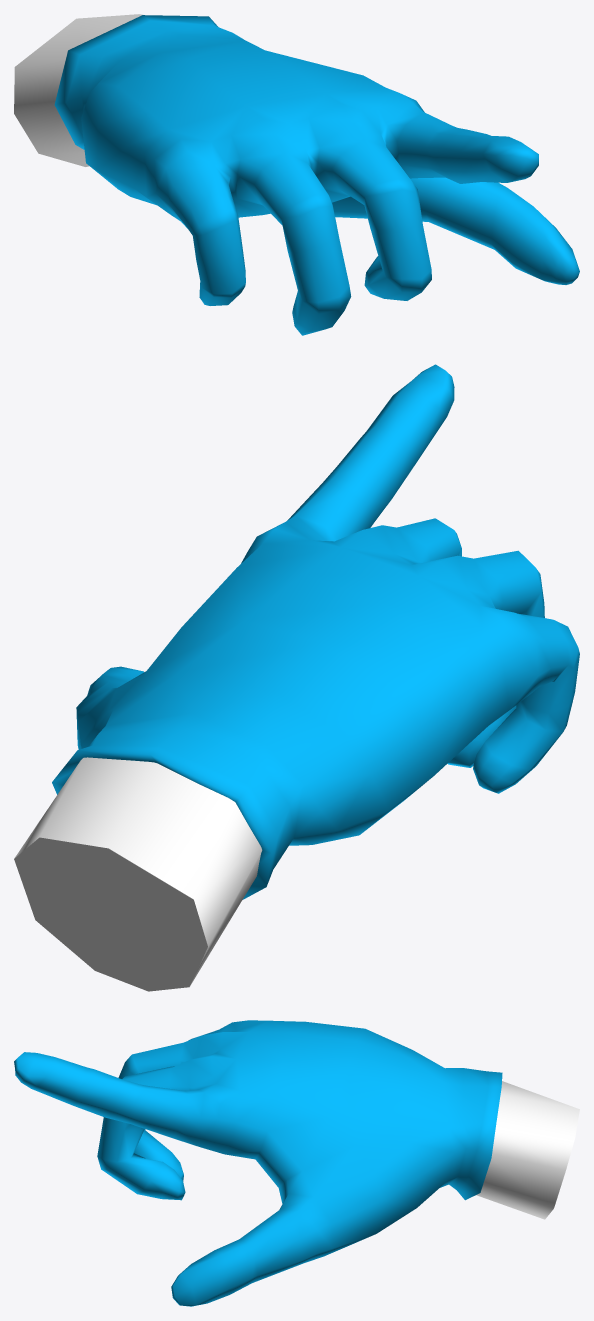
The model's file is LaserHand.fbx.
The picture shows the model from 3 angles, top to bottom: view 1: azimuth 30°, elevation 25°; view 2: azimuth 150°, elevation 25°; view 3: azimuth 270°, elevation 25°; orthographic projection. The views are drawn at different scales.
Visible parts, largest first — view 1: RightHand_Solo1; view 2: RightHand_Solo1; view 3: RightHand_Solo1.
Boxes of the visible parts, box(x1,y1,x2,y2) form: RightHand_Solo1: box(14, 14, 579, 335); RightHand_Solo1: box(14, 364, 579, 991); RightHand_Solo1: box(14, 1020, 579, 1306).
Size of what is drawn, in the model's own units: 0.3907 by 0.2432 by 0.6392.
